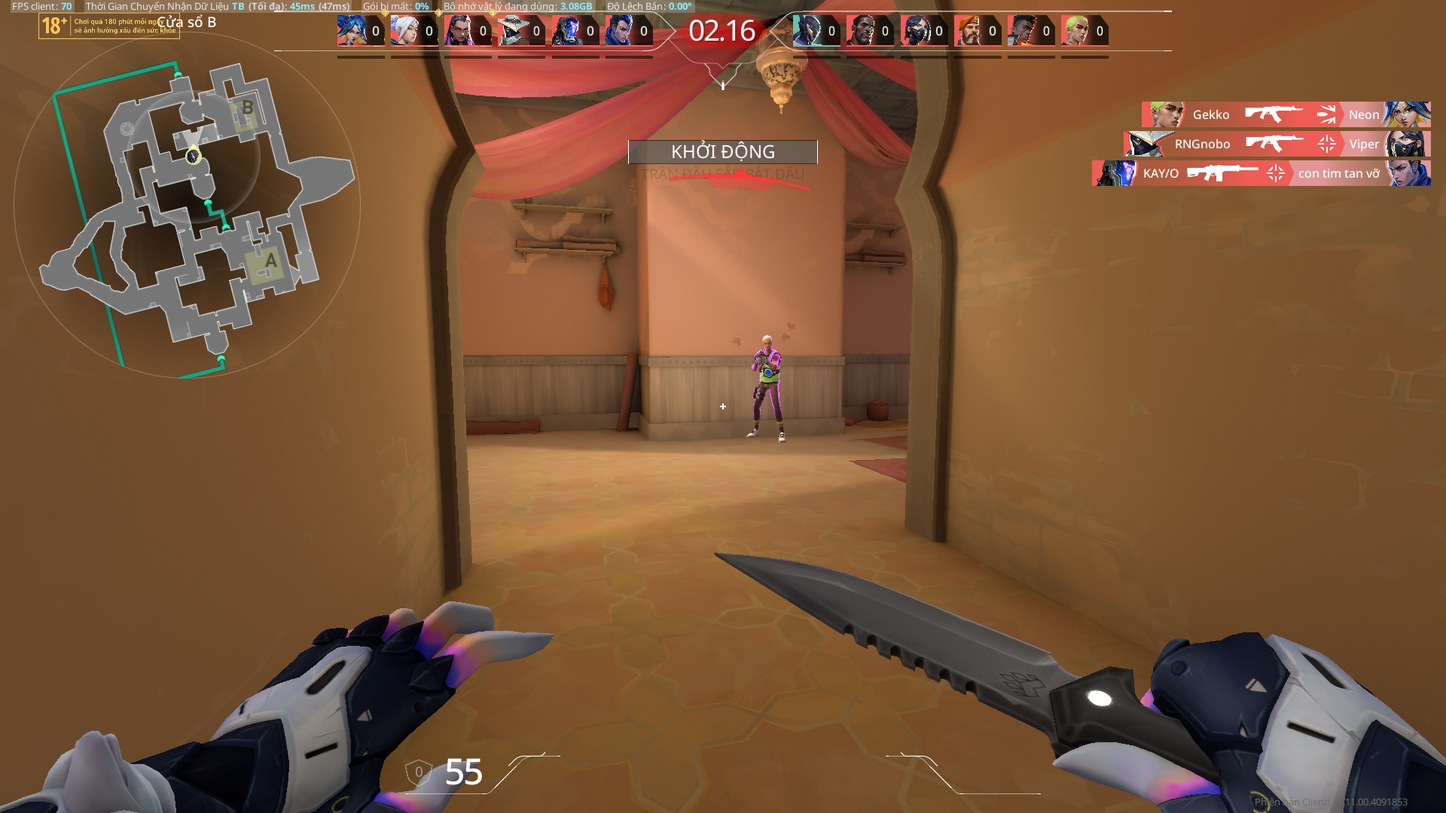body: (752, 347, 782, 379)
head: (764, 327, 776, 349)
